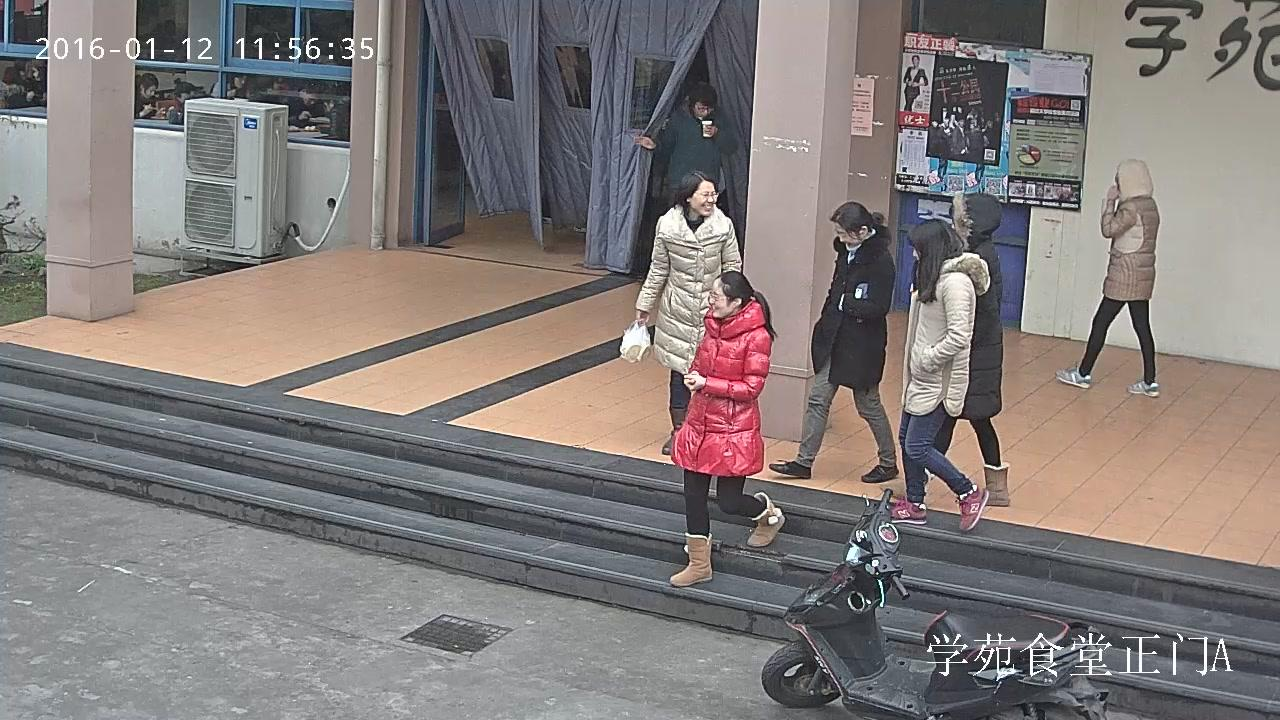person: (665, 268, 785, 587), (768, 200, 898, 484), (619, 169, 745, 457), (898, 190, 1011, 508), (886, 218, 991, 532), (1053, 158, 1162, 397), (631, 80, 739, 280), (901, 54, 927, 111), (133, 73, 160, 118)
